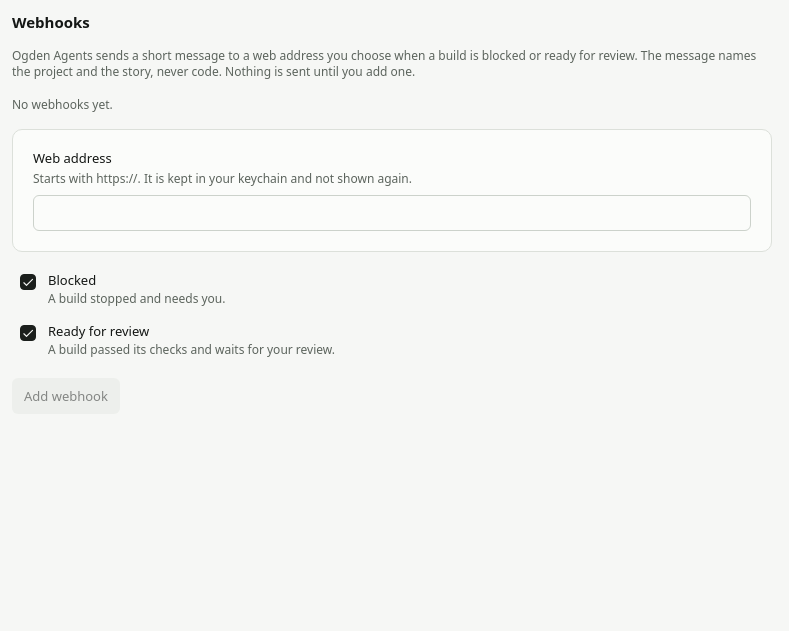
it: webhooks in Settings, Notifications (story 11.4) › starts with none, adds one (both events on), shows only its domain and never the address, and clears the field
This screenshot has width=789, height=631.
Check: the text "No webhooks yet." is shown, box [12,96,113,113]
Type "https://hooks.example.com/services/T0K3N" into the field with test id "webhook-url".
click(392, 213); type("https://hooks.example.com/services/T0K3N")  # box [33,195,751,231]
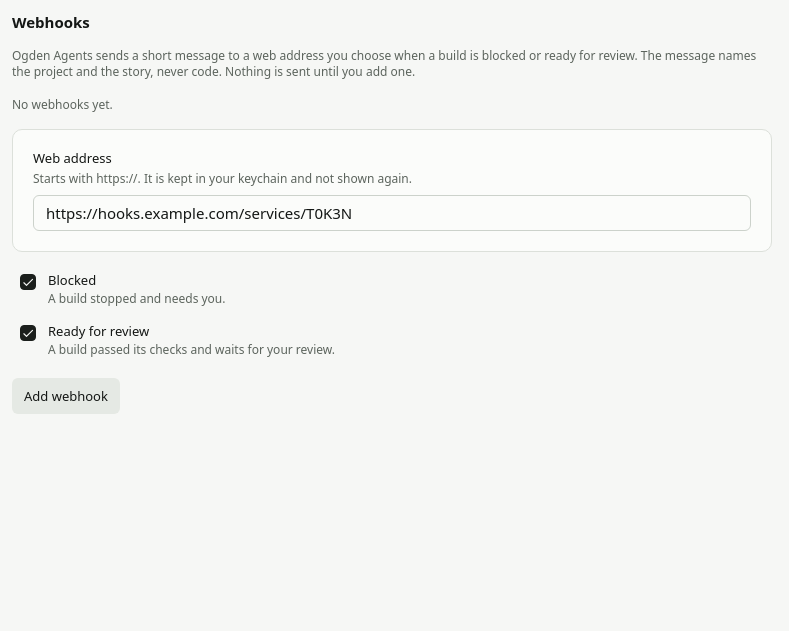
Click the button with test id "webhook-add".
click(66, 396)  # box [12,378,120,414]
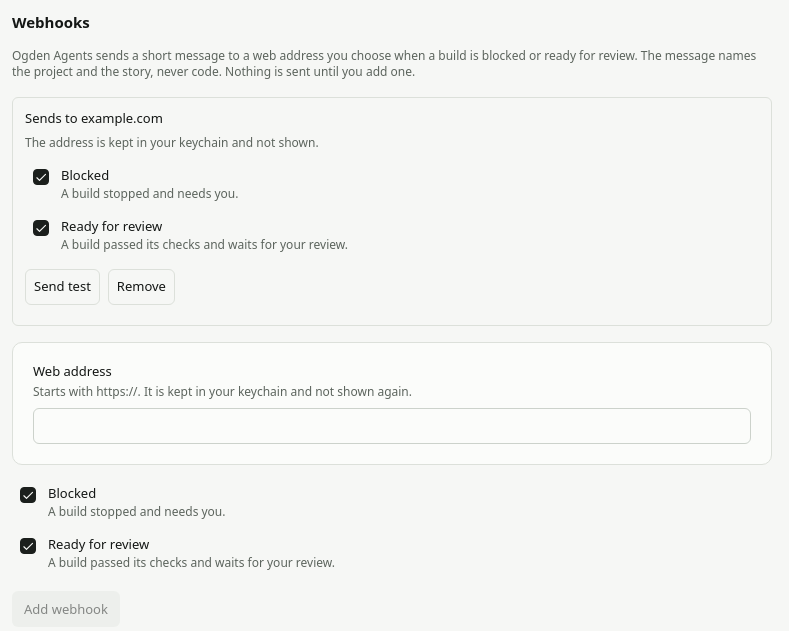
Check: the field with test id "webhook-url" is empty, box [33,408,751,444]
Check: the text with test id "webhook-host" reads "Sends to example.com", box [25,109,163,127]
Check: the list with test id "webhook-list" shows "kept in your keychain", box [25,134,319,150]
